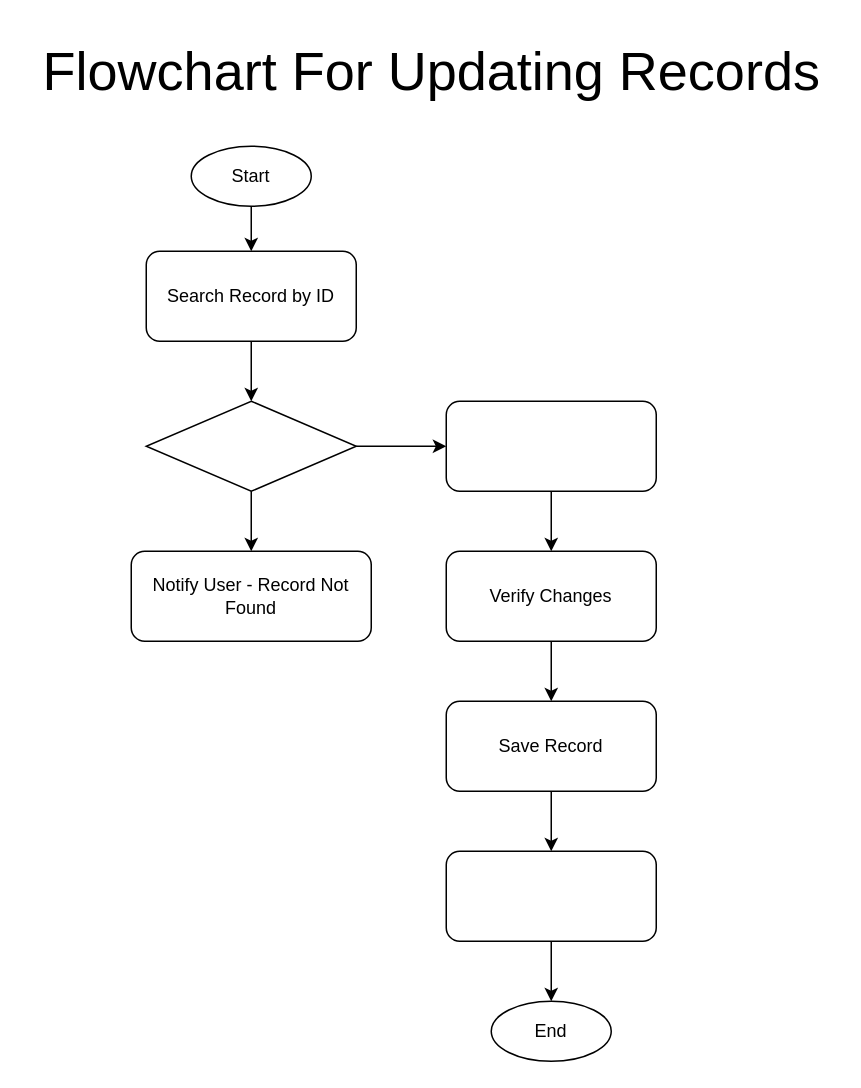
The diagram is 861 pixels wide and 1088 high, and some of its shapes have lost their labels. Here are the shapes that lost their labels. From the top down, the centre of each, then its label:
At [250,445]: "Does Record Exist?".
At [550,445]: "Update Record Details".
At [550,895]: "Notify User".
